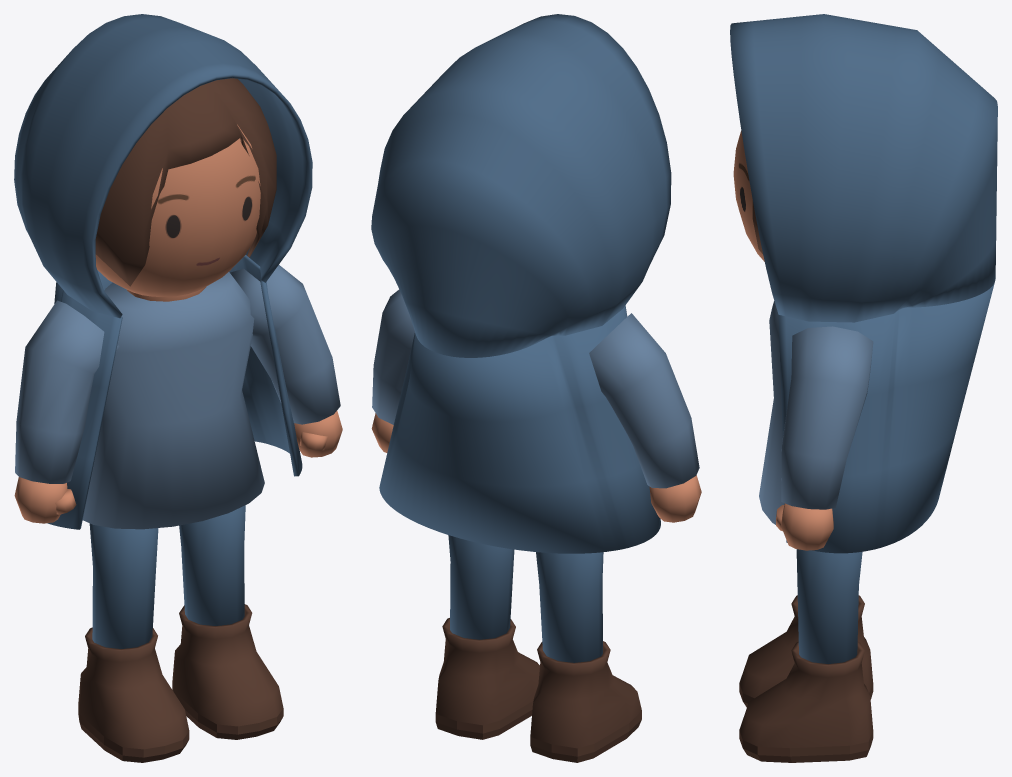
Rendered from traveller_full.glb.
3 views of the same model, side by side, from view 1: azimuth 30°, elevation 25°; view 2: azimuth 150°, elevation 25°; view 3: azimuth 270°, elevation 25° (orthographic). The views are drawn at different scales.
Parts seen in each view (by area): view 1: Body, Hood, Arms, Boots, Hair, Head, Garment; view 2: Hood, Garment, Boots, Arms, Body; view 3: Hood, Garment, Arms, Boots, Body, Head.
Part boxes in pixels (x1,y1,x2,y2): Body: (82, 272, 264, 648); Hood: (14, 14, 312, 318); Arms: (14, 265, 342, 523); Boots: (78, 604, 283, 762); Hair: (95, 78, 276, 286); Head: (95, 124, 260, 296); Garment: (47, 255, 302, 529); Hood: (371, 14, 671, 357); Garment: (379, 305, 660, 553); Boots: (435, 618, 641, 762); Arms: (371, 289, 701, 522); Body: (448, 535, 603, 662); Hood: (730, 14, 997, 322); Garment: (778, 283, 994, 553); Arms: (776, 326, 873, 550); Boots: (739, 595, 873, 762); Body: (759, 301, 862, 663); Head: (733, 131, 764, 261).
Bounding box in the file's own units: 1.64 × 3.34 × 1.16.
2 materials, 2 textured.
